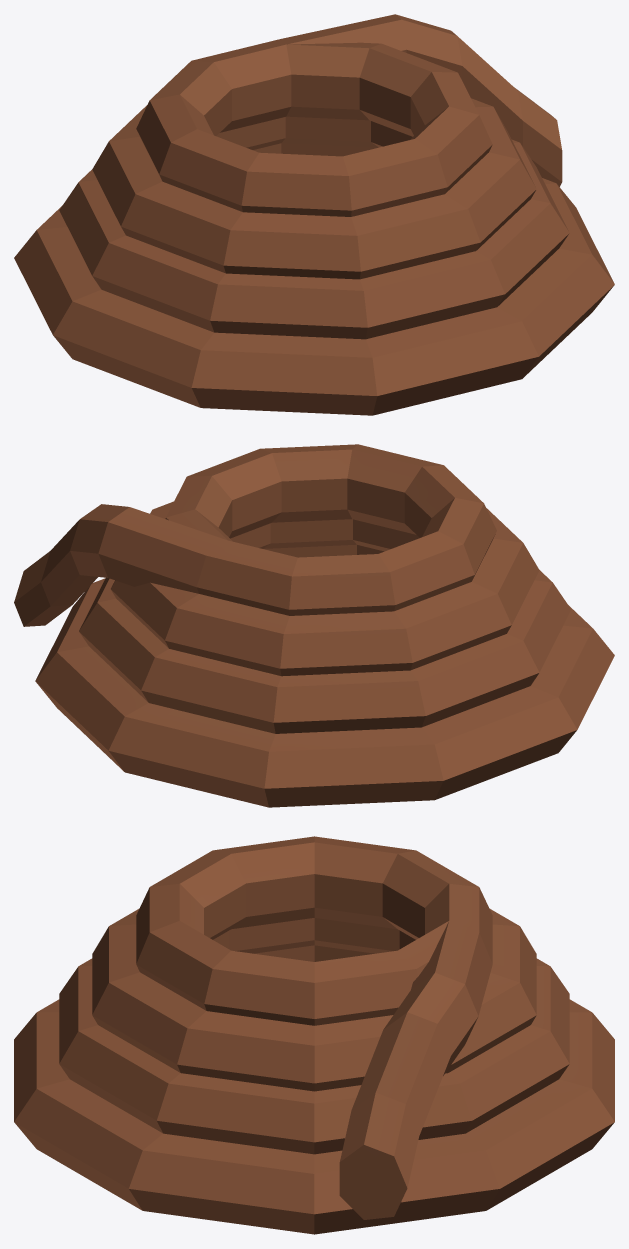
The model's file is RopeSpool.fbx.
The picture shows the model from 3 angles, top to bottom: view 1: azimuth 30°, elevation 25°; view 2: azimuth 150°, elevation 25°; view 3: azimuth 270°, elevation 25°; orthographic projection. The views are drawn at different scales.
Parts seen in each view (by area): view 1: RopeSpool; view 2: RopeSpool; view 3: RopeSpool.
Boxes of the visible parts, box(x1,y1,x2,y2) form: RopeSpool: box(14, 14, 614, 415); RopeSpool: box(14, 444, 614, 807); RopeSpool: box(14, 836, 614, 1234).
Size of the model in its own units: 258 by 95.94 by 238.
